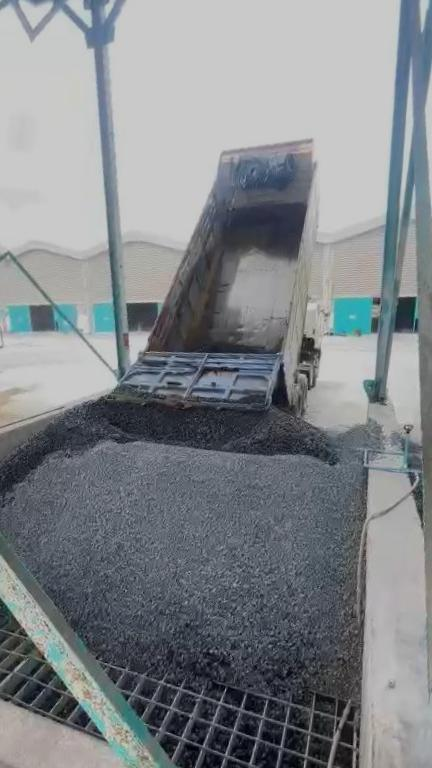gravel: (0, 407, 364, 696), (0, 387, 383, 490), (186, 250, 266, 352), (0, 569, 6, 611)
sand: (0, 388, 21, 430)
